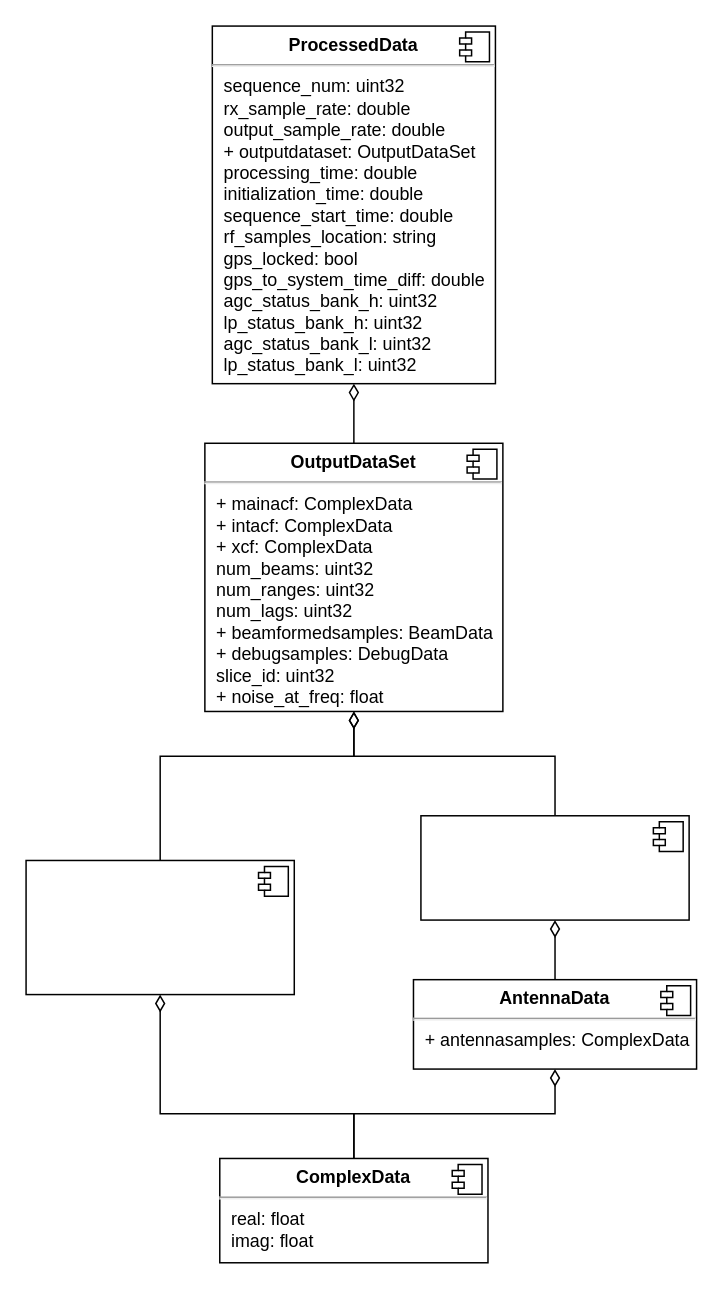
The diagram is 723 pixels wide and 1289 high, and some of its shapes have lost their labels. The box of each missing label's shape, as (x1, y1, x2, y2) in pixels:
BeamData beamnum: uint32 + mainsamples: ComplexData + intfsamples: ComplexData: (25, 859, 294, 995)
DebugData stagename: string + antennadata: AntennaData: (419, 814, 689, 920)
